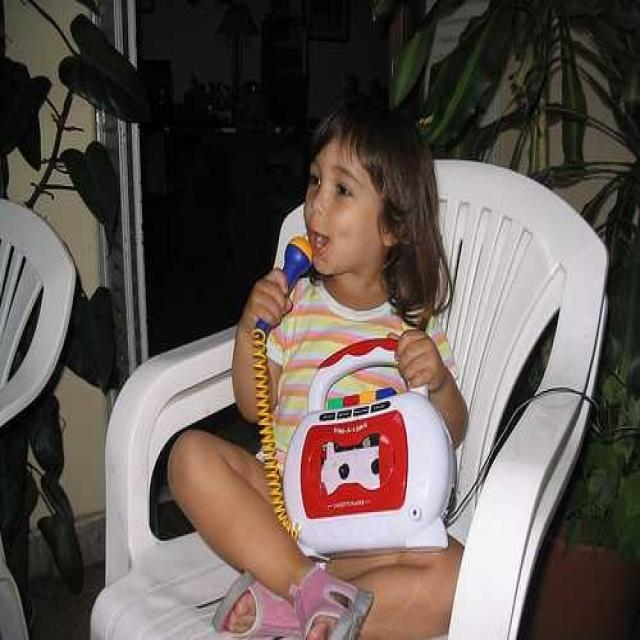microphone: (250, 233, 318, 347)
